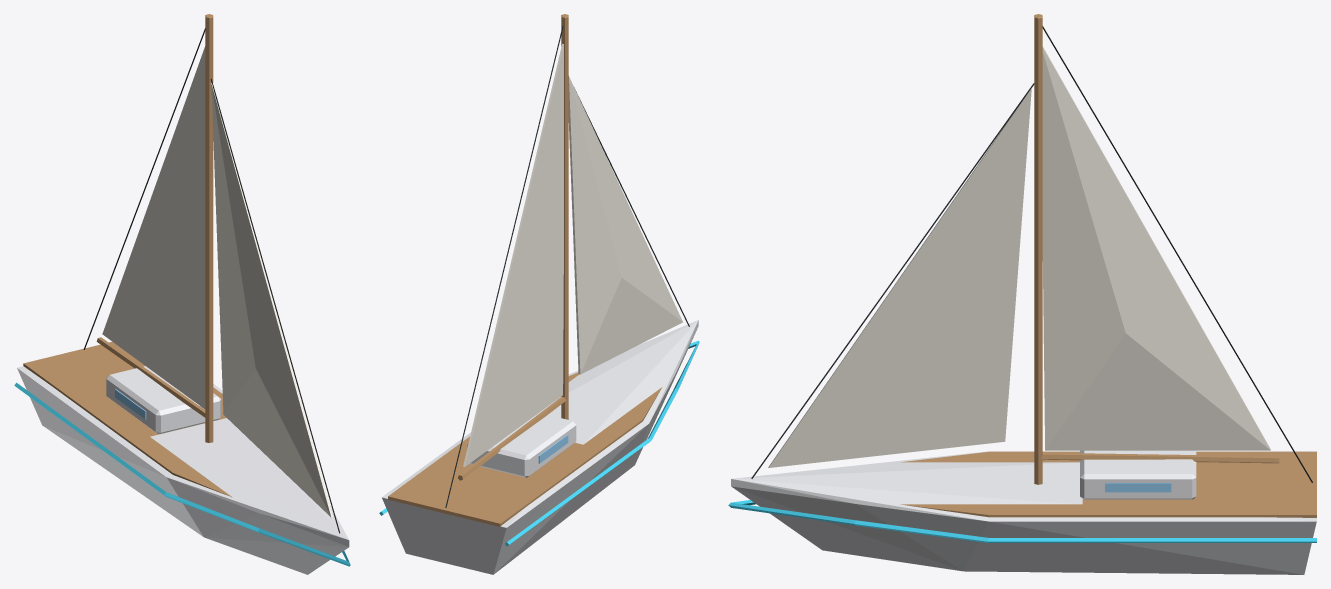
The model's file is sailboat.glb.
The picture shows the model from 3 angles, left to right: view 1: azimuth 30°, elevation 25°; view 2: azimuth 150°, elevation 25°; view 3: azimuth 270°, elevation 25°; orthographic projection. The views are drawn at different scales.
Visible parts, largest first — view 1: sailboat-m; view 2: sailboat-m; view 3: sailboat-m.
Boxes of the visible parts, box(x1,y1,x2,y2) form: sailboat-m: box(14, 14, 350, 574); sailboat-m: box(379, 14, 699, 574); sailboat-m: box(728, 14, 1316, 574).
Size of the model in its own units: 2.08 by 7.1 by 7.09.
